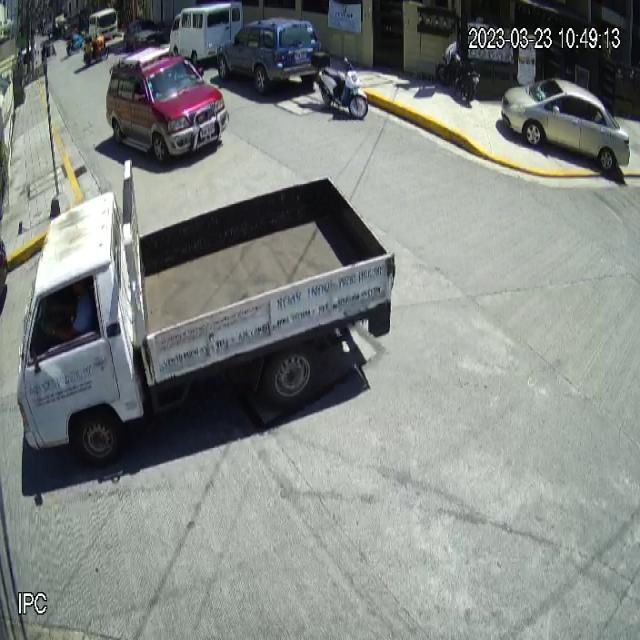Car: (105, 46, 231, 165), (501, 78, 630, 171), (216, 16, 323, 96)
Motorcycle: (309, 49, 369, 120)
Truck: (15, 159, 398, 473)
Van: (169, 0, 242, 69)
